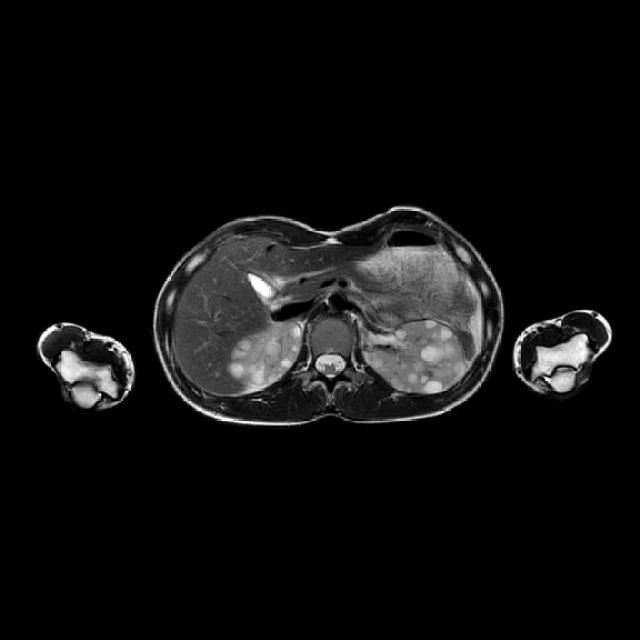sag: (230, 320, 304, 385)
sol: (371, 320, 462, 396)
